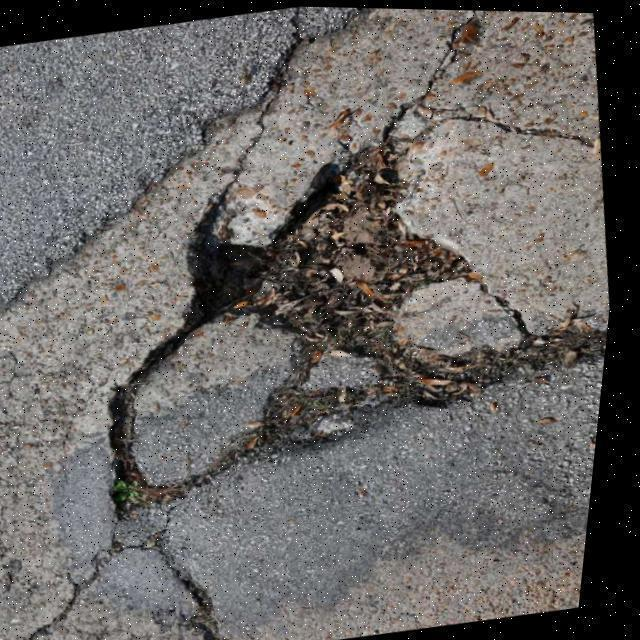Pothole: (95, 133, 580, 521)
